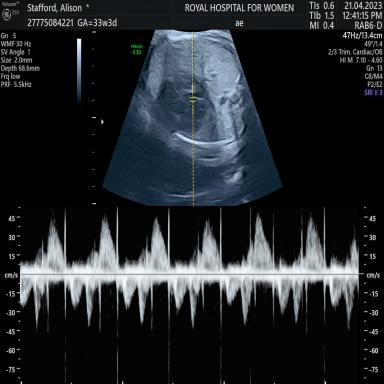Ultrasound-Waves: (26, 207, 358, 384)
